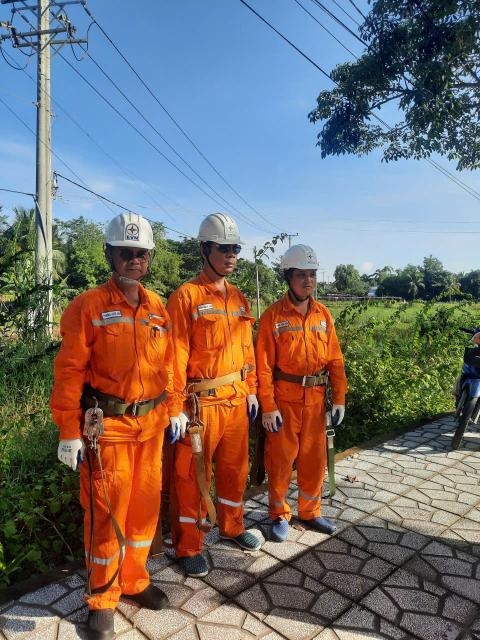gloves: (51, 427, 93, 479), (262, 402, 290, 445), (238, 385, 262, 430), (326, 394, 351, 435), (177, 402, 197, 450), (168, 407, 181, 447)
harness: (75, 380, 183, 418), (262, 360, 347, 390), (179, 364, 263, 391)
helmet: (87, 208, 177, 258), (192, 207, 268, 255), (267, 239, 334, 275)
shoes: (173, 545, 221, 593), (83, 596, 132, 640), (126, 574, 174, 618), (211, 523, 270, 557), (262, 503, 298, 552), (297, 501, 346, 537)
